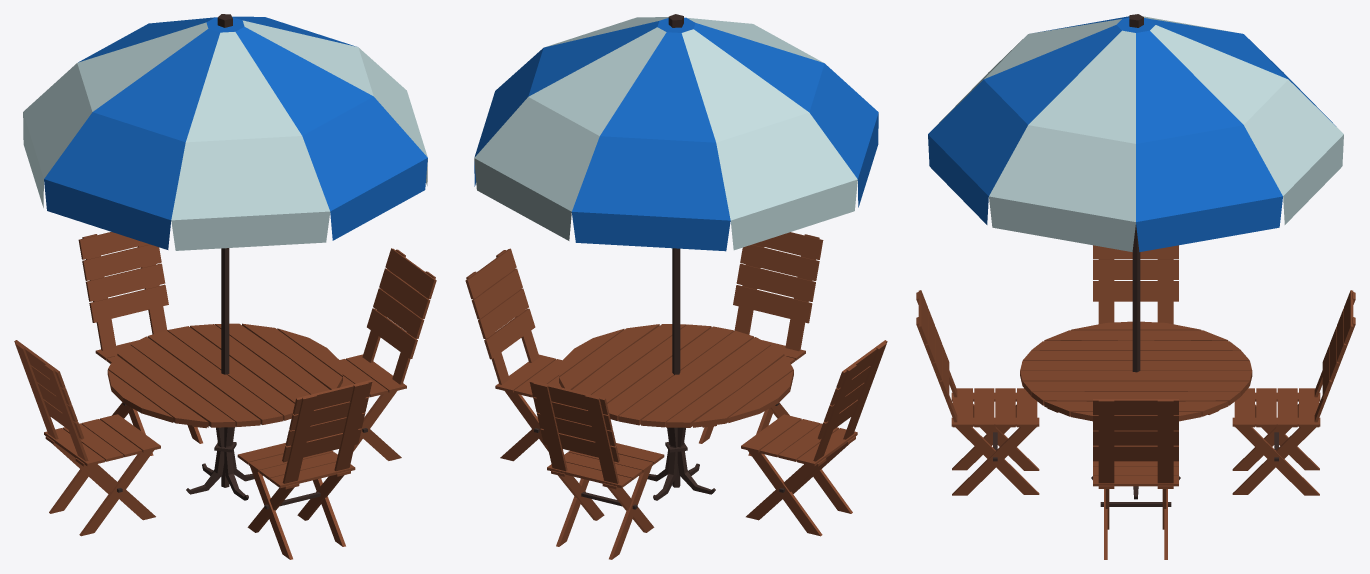
The model's file is village_pack_table_4.glb.
3 renders of one model, left to right at view 1: azimuth 30°, elevation 25°; view 2: azimuth 150°, elevation 25°; view 3: azimuth 270°, elevation 25°, orthographic.
Visible parts, largest first — view 1: table 4_cloth 1_0; view 2: table 4_cloth 1_0; view 3: table 4_cloth 1_0.
Part boxes in pixels (left/top/right/bottom): table 4_cloth 1_0: left=14, top=14, right=436, bottom=559; table 4_cloth 1_0: left=465, top=14, right=887, bottom=559; table 4_cloth 1_0: left=916, top=14, right=1355, bottom=559.
Bounding box in the file's own units: 2.08 × 2.43 × 2.08.
